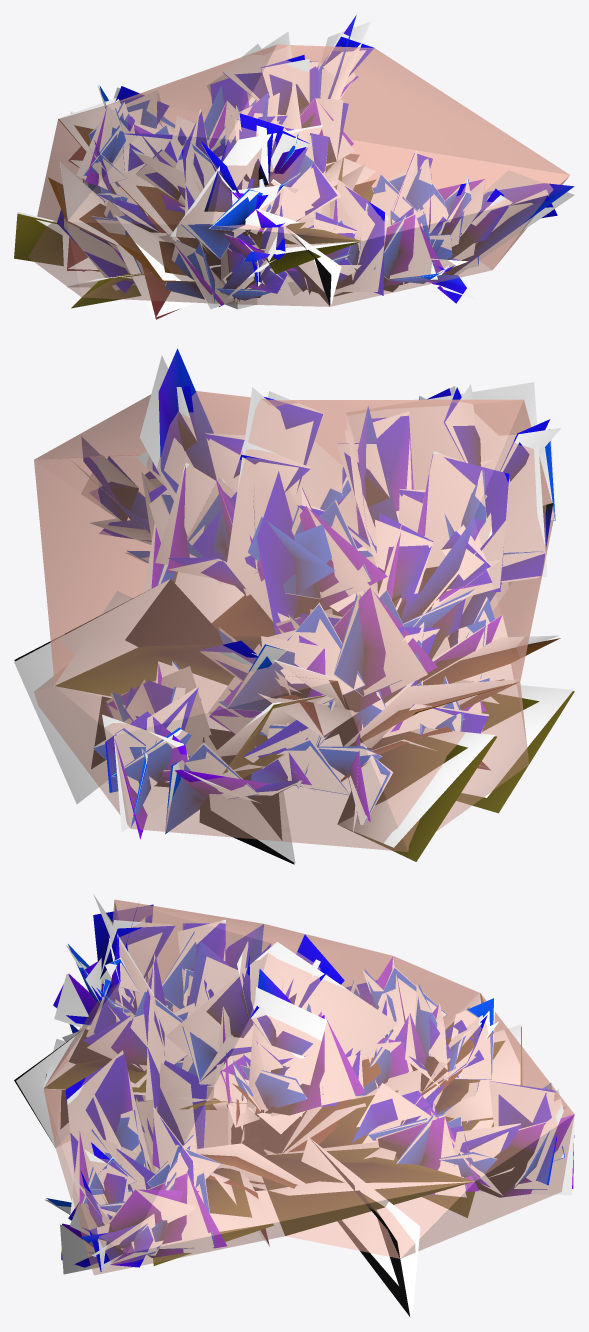
File: Juniper_tree_04.dae
The picture shows the model from 3 angles, top to bottom: view 1: azimuth 30°, elevation 25°; view 2: azimuth 150°, elevation 25°; view 3: azimuth 270°, elevation 25°; orthographic projection. The views are drawn at different scales.
Visible parts, largest first — view 1: Colmesh-1, Juniper_ancient_02_a300, Juniper_ancient_02_a800; view 2: Colmesh-1, Juniper_ancient_02_a300, Juniper_ancient_02_a800; view 3: Colmesh-1, Juniper_ancient_02_a300, Juniper_ancient_02_a800.
Boxes of the visible parts, <box> form: Colmesh-1: <box>28,44,570,309</box>; Juniper_ancient_02_a300: <box>17,21,574,318</box>; Juniper_ancient_02_a800: <box>14,15,574,319</box>; Colmesh-1: <box>34,391,554,851</box>; Juniper_ancient_02_a300: <box>14,355,573,863</box>; Juniper_ancient_02_a800: <box>14,348,574,864</box>; Colmesh-1: <box>43,899,574,1275</box>; Juniper_ancient_02_a300: <box>16,894,574,1315</box>; Juniper_ancient_02_a800: <box>14,901,574,1316</box>.
Size of the model in its own units: 7.29 by 6.63 by 4.48.
